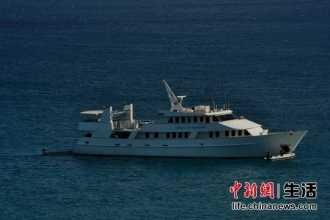otherboat: (58, 88, 311, 156)
